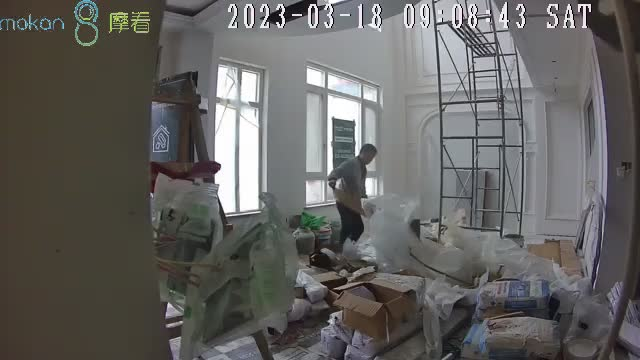people: (328, 143, 377, 239)
window: (306, 63, 382, 205), (214, 59, 263, 214)
